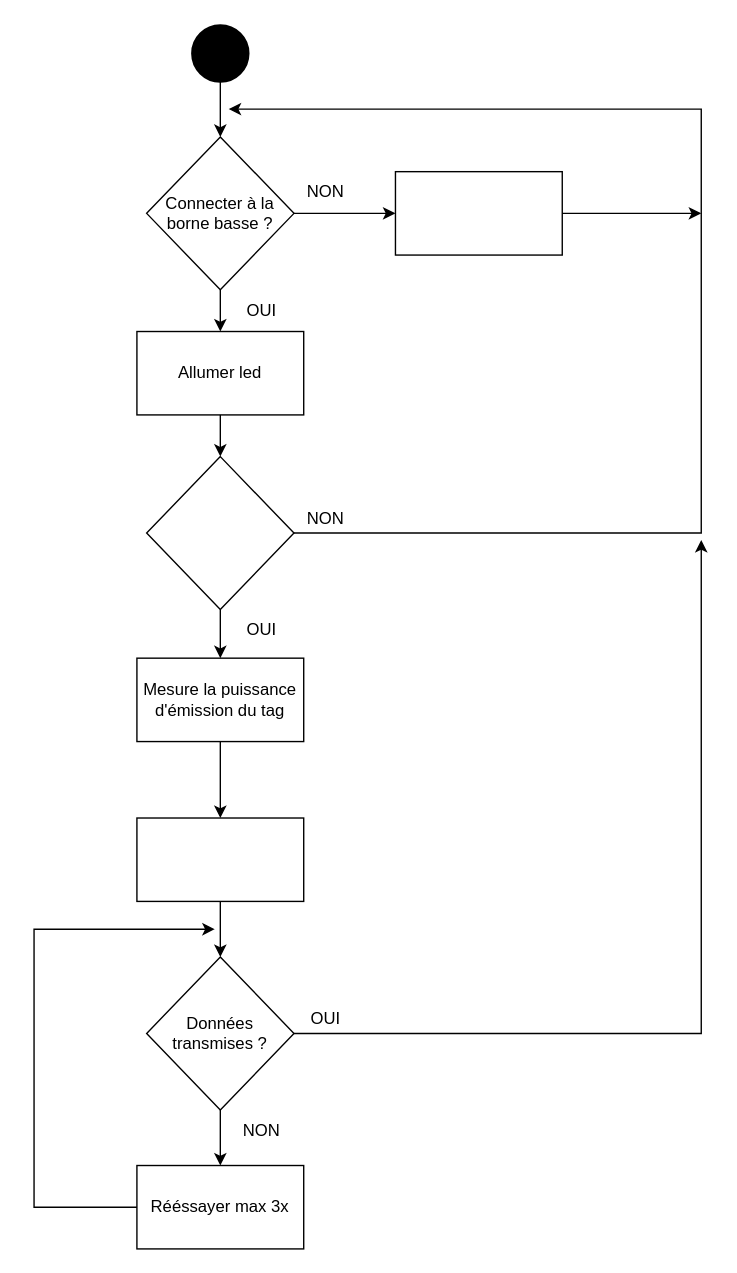
Image size: 737x1273. Some labels were removed from this diagram. Here are the shapes that lost their labels. From the top down, the centre of each, then its label:
point 478,212: Eteindre led
point 219,532: Capte un tag ?
point 220,859: Envoie a la borne basse
